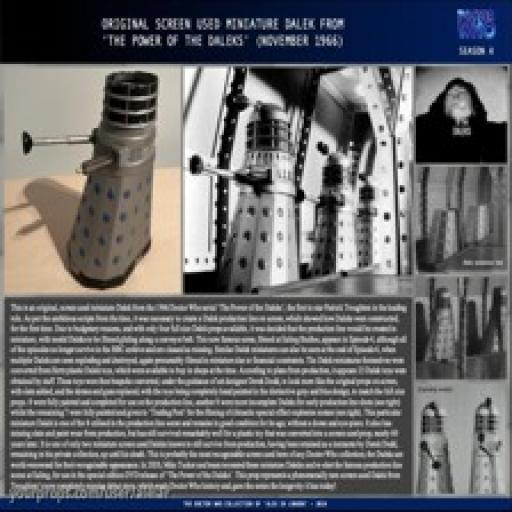dalek: (20, 70, 157, 291), (189, 99, 306, 298), (295, 139, 359, 282), (468, 394, 507, 492), (416, 401, 455, 497), (356, 166, 382, 270), (429, 286, 455, 365), (485, 285, 510, 355)
